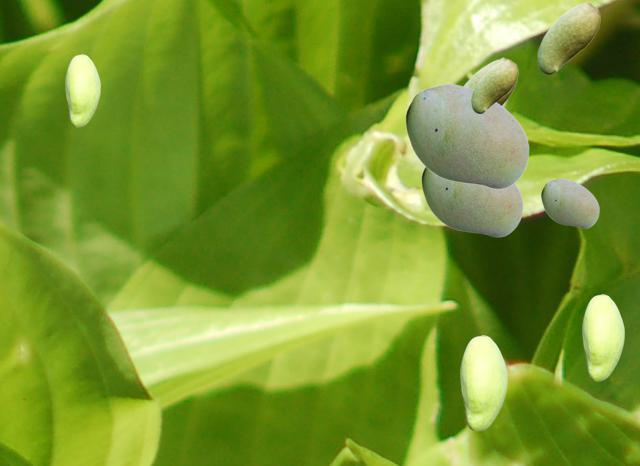green_mango: (405, 83, 528, 188), (421, 167, 522, 236), (537, 1, 599, 73), (460, 335, 506, 430), (582, 294, 623, 380), (541, 178, 598, 227), (463, 57, 516, 105), (65, 54, 99, 126), (471, 59, 517, 112)
